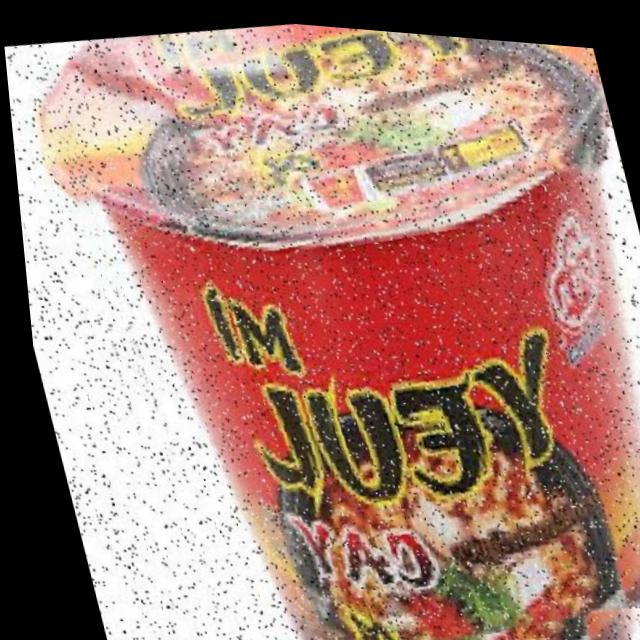Miscellaneous: (29, 2, 640, 640)
